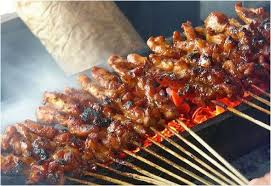sate: (5, 8, 267, 180)
